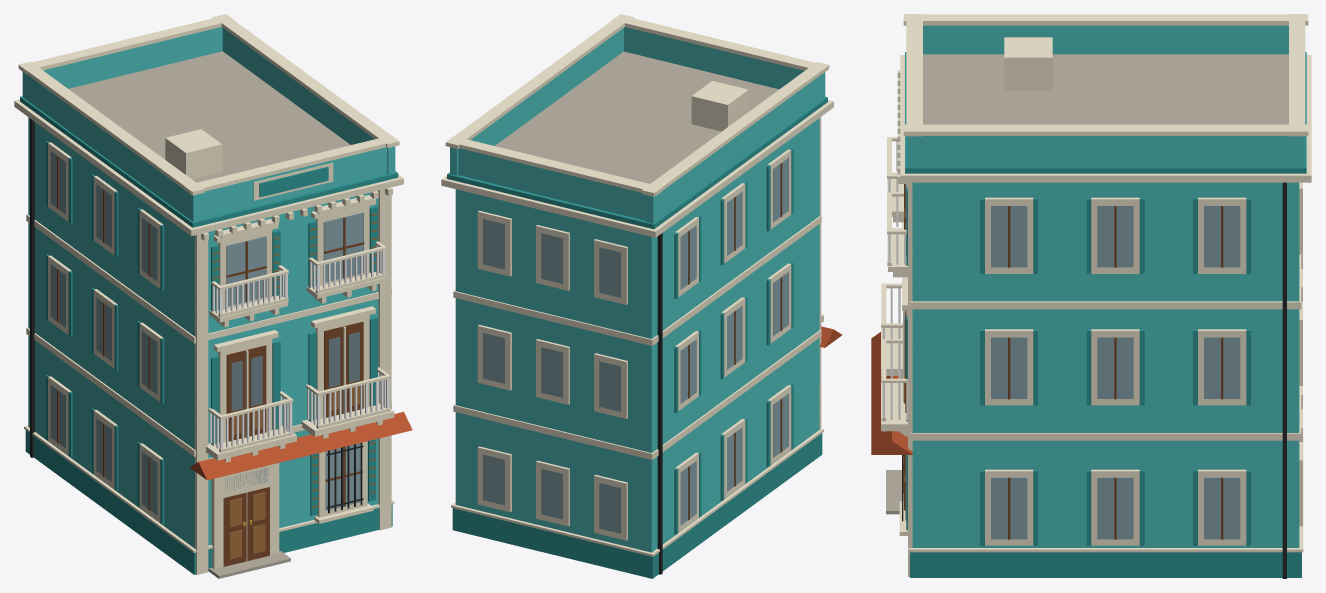
Rendered from casa-cyan.glb.
3 views of the same model, side by side, from view 1: azimuth 30°, elevation 25°; view 2: azimuth 150°, elevation 25°; view 3: azimuth 270°, elevation 25° (orthographic). The views are drawn at different scales.
Visible parts, largest first — view 1: CasaCyan_Crema, CasaCyan_Cyan, CasaCyan_CyanOscuro, CasaCyan_Piedra, CasaCyan_Vidrio, CasaCyan_Madera, CasaCyan_Blanco, CasaCyan_Teja, CasaCyan_Hierro, CasaCyan_MaderaClara; view 2: CasaCyan_Cyan, CasaCyan_Crema, CasaCyan_Piedra, CasaCyan_Vidrio, CasaCyan_CyanOscuro, CasaCyan_Hierro, CasaCyan_Madera; view 3: CasaCyan_Cyan, CasaCyan_Crema, CasaCyan_Piedra, CasaCyan_CyanOscuro, CasaCyan_Vidrio, CasaCyan_Hierro, CasaCyan_Madera, CasaCyan_Teja, CasaCyan_Blanco.
Part boxes in pixels (left/top/right/bottom): CasaCyan_Crema: left=14, top=14, right=403, bottom=574; CasaCyan_Cyan: left=22, top=27, right=395, bottom=548; CasaCyan_CyanOscuro: left=20, top=96, right=398, bottom=574; CasaCyan_Piedra: left=69, top=51, right=350, bottom=578; CasaCyan_Vidrio: left=50, top=151, right=363, bottom=515; CasaCyan_Madera: left=57, top=156, right=364, bottom=566; CasaCyan_Blanco: left=209, top=245, right=389, bottom=449; CasaCyan_Teja: left=190, top=411, right=412, bottom=480; CasaCyan_Hierro: left=30, top=118, right=363, bottom=513; CasaCyan_MaderaClara: left=212, top=213, right=377, bottom=559; CasaCyan_Cyan: left=450, top=27, right=825, bottom=552; CasaCyan_Crema: left=441, top=14, right=833, bottom=556; CasaCyan_Piedra: left=495, top=51, right=778, bottom=183; CasaCyan_Vidrio: left=483, top=157, right=788, bottom=533; CasaCyan_CyanOscuro: left=447, top=97, right=827, bottom=578; CasaCyan_Hierro: left=657, top=233, right=662, bottom=574; CasaCyan_Madera: left=688, top=163, right=782, bottom=520; CasaCyan_Cyan: left=907, top=25, right=1304, bottom=547; CasaCyan_Crema: left=881, top=14, right=1311, bottom=576; CasaCyan_Piedra: left=886, top=54, right=1288, bottom=514; CasaCyan_CyanOscuro: left=905, top=52, right=1306, bottom=577; CasaCyan_Vidrio: left=904, top=184, right=1240, bottom=539; CasaCyan_Hierro: left=902, top=182, right=1286, bottom=578; CasaCyan_Madera: left=904, top=184, right=1223, bottom=539; CasaCyan_Teja: left=871, top=332, right=912, bottom=454; CasaCyan_Blanco: left=882, top=141, right=907, bottom=419.
Bounding box in the file's own units: 5.9 × 10.23 × 9.1.
